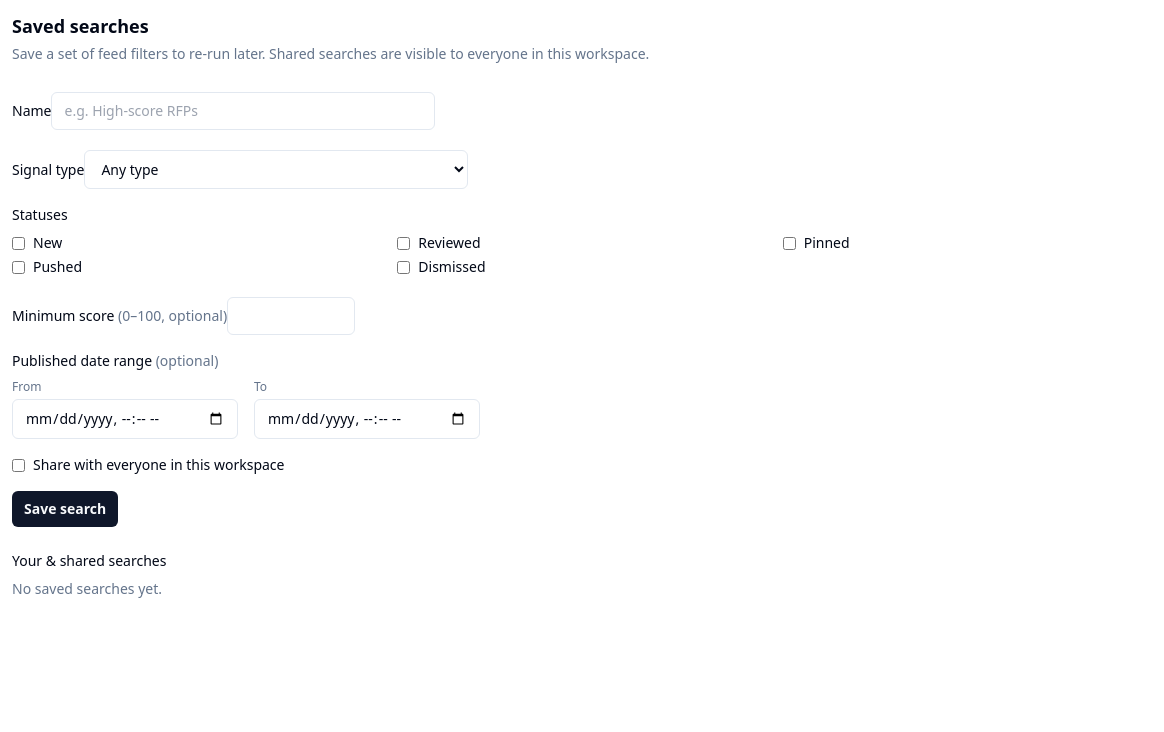
SavedSearchManager › renders the server's explicit per-field message on a 422 (H2)
Expected: the element with test id "saved-search-manager" is shown, [12,14,850,598]
Type "Server-rejected" into the field labelled "Name" at (244, 111), box [52,92,436,130]
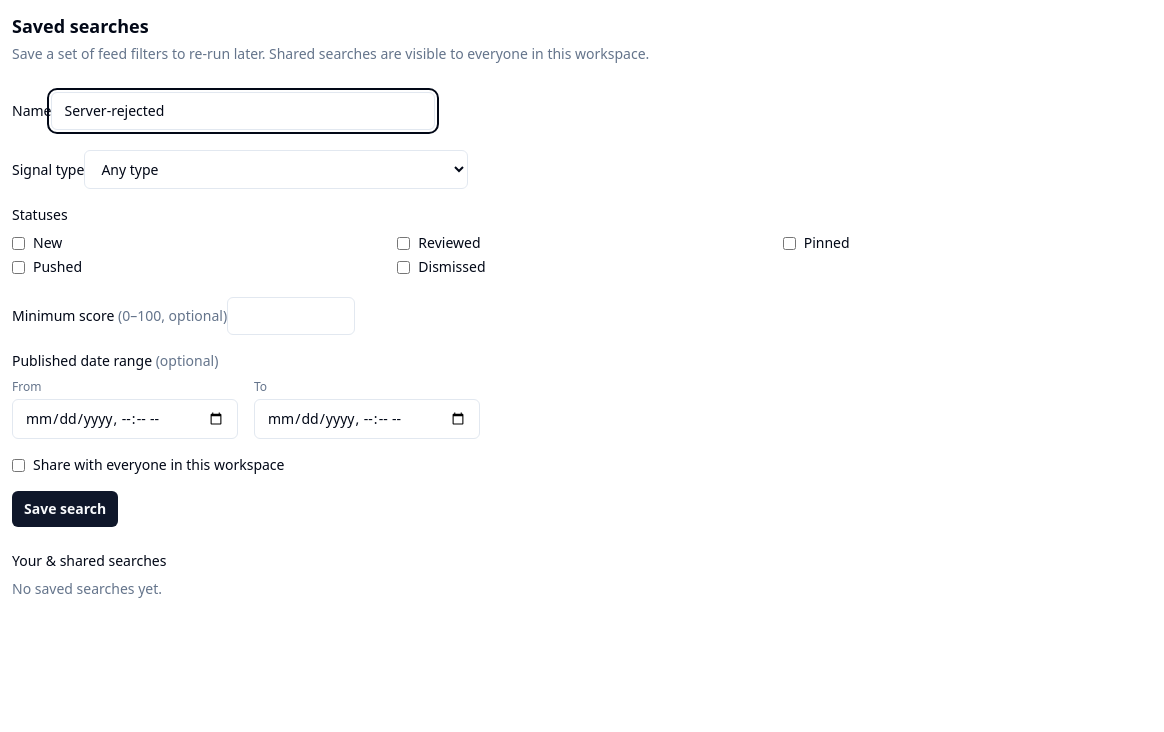
Type "80" into the number field labelled "Minimum score (0–100, optional)" at (291, 316), box [227,297,355,335]
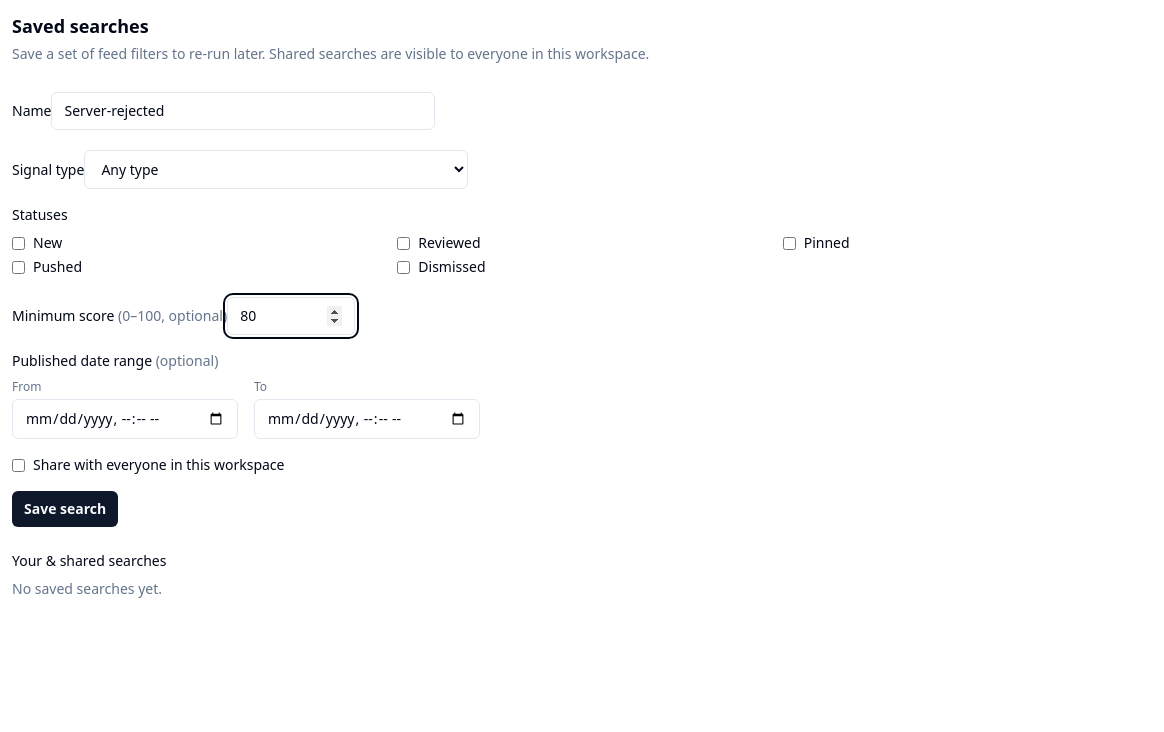
Click the button "Save search" at (65, 509), box [12,491,118,527]
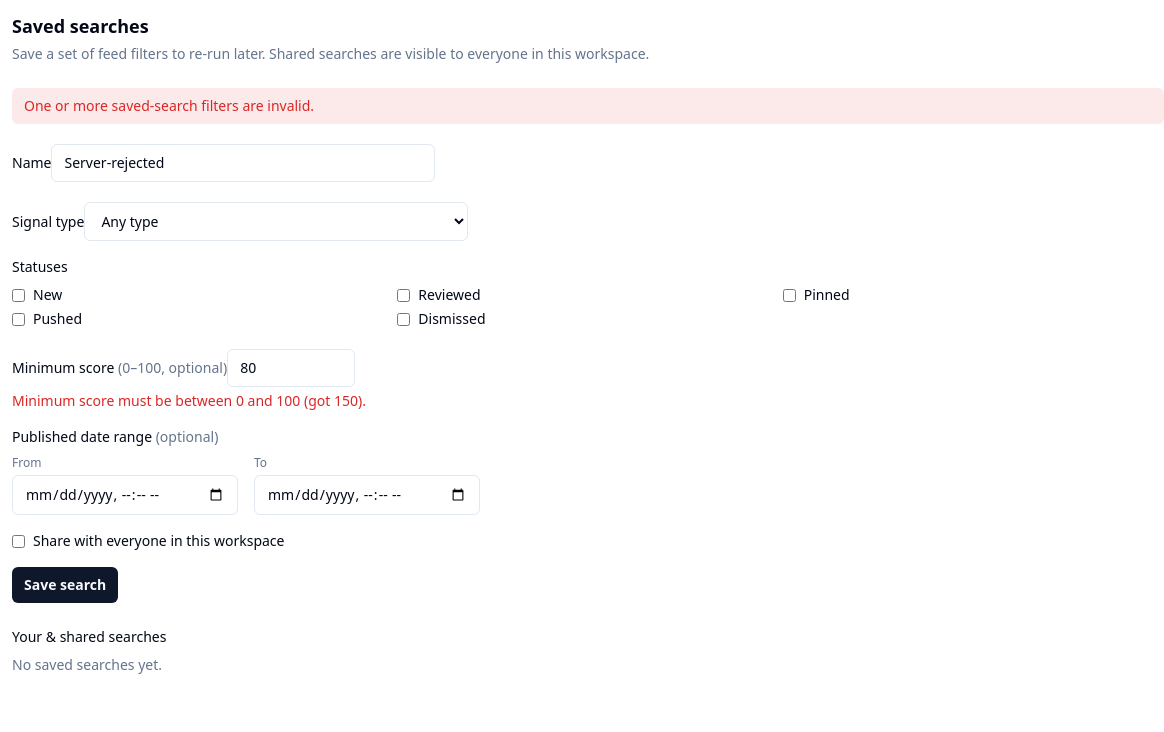
Expected: the text "Minimum score must be between 0 and 100 (got 150)." is shown, [12,391,366,410]
